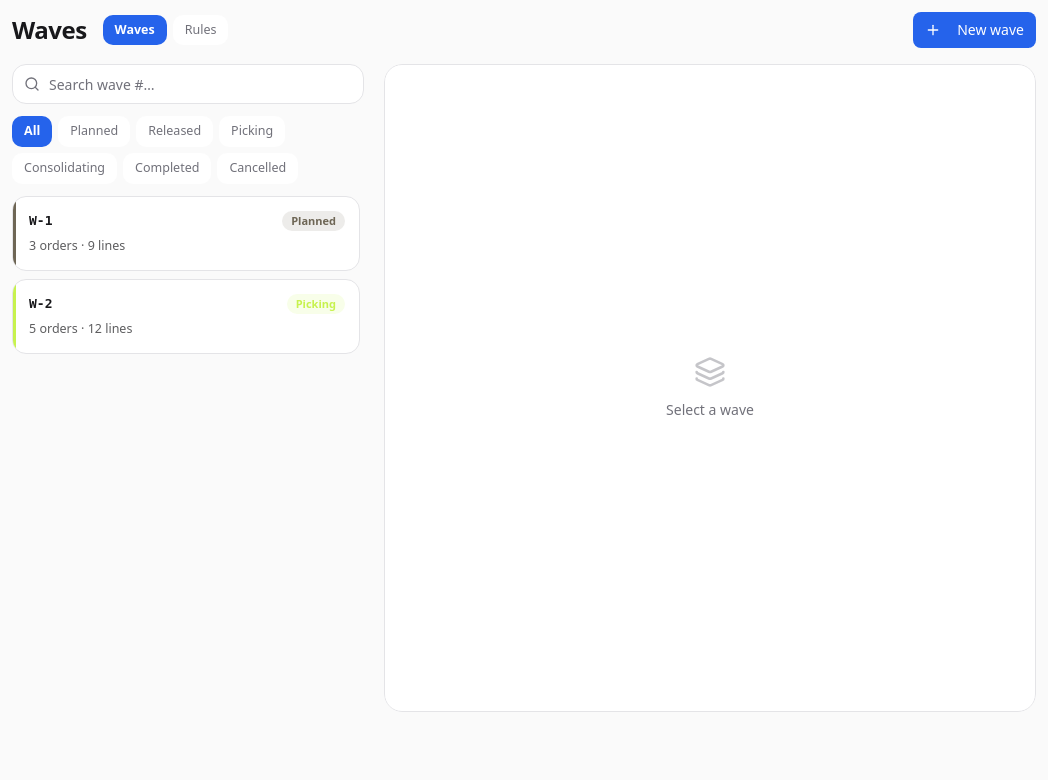
Scenario: WavesPage -- board › selecting a wave row shows the detail pane
Click the text "W-1". click: (41, 221)
box: [29,211,52,230]
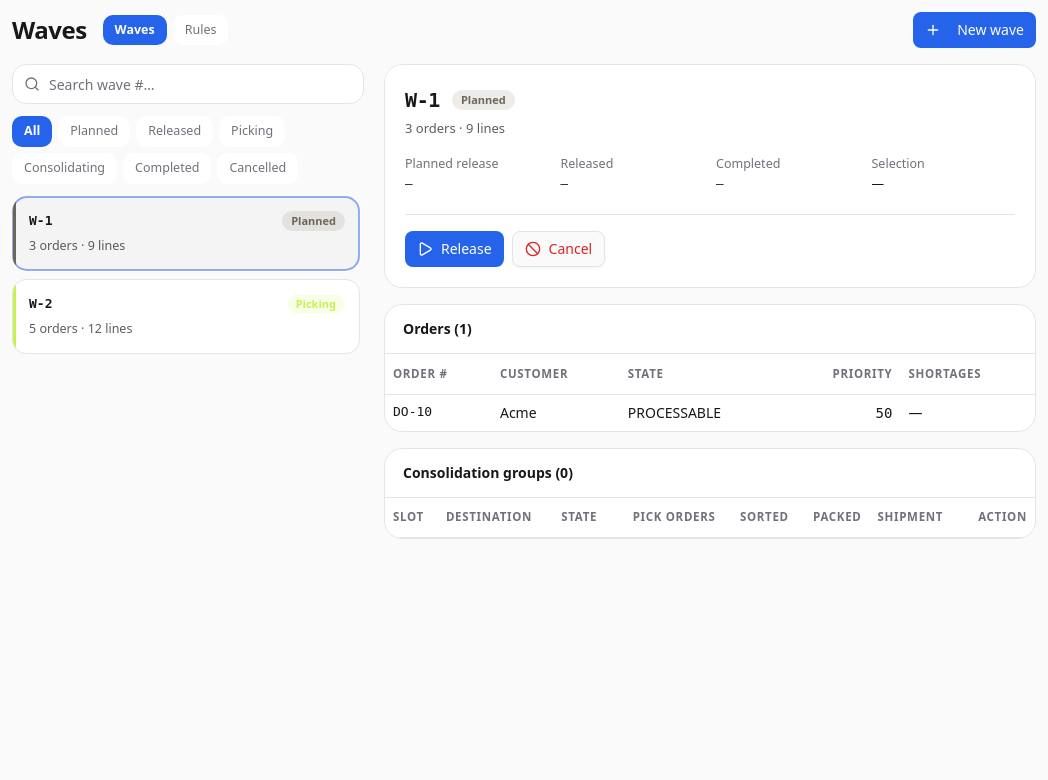
Expected: the element with test id "wave-detail" is shown, [384,64,1036,539]
Expected: the text "DO-10" is shown, [385,394,492,430]
